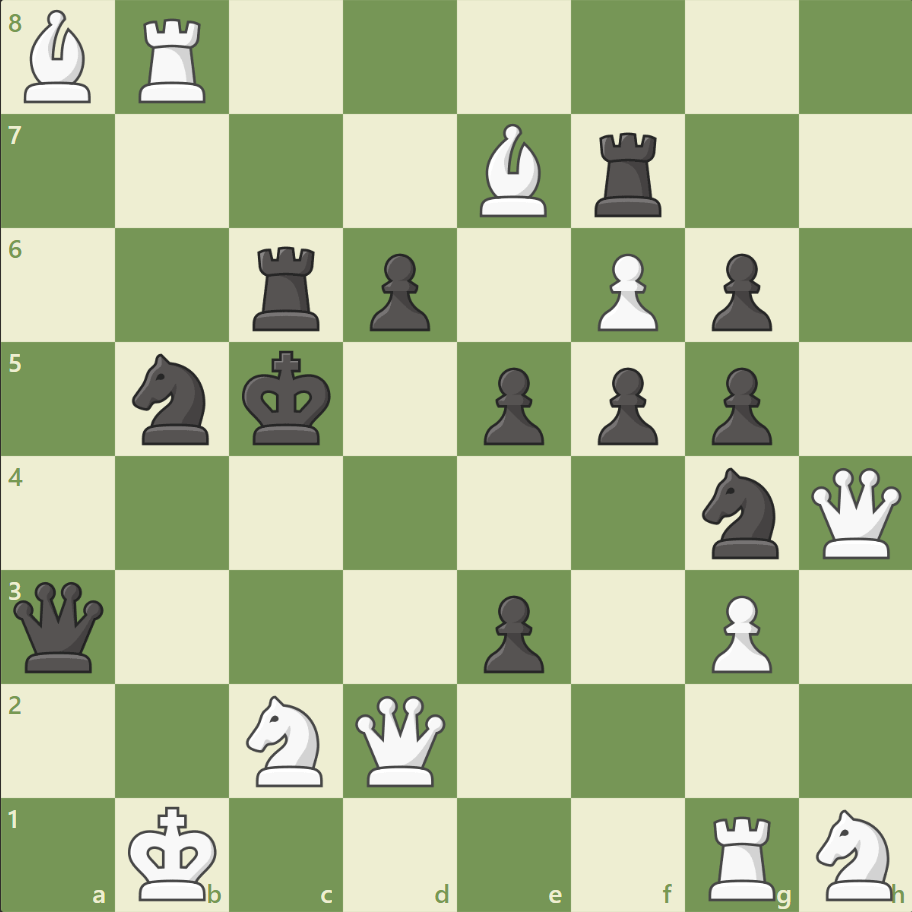B: (17, 6, 101, 109), (471, 120, 555, 222)
K: (124, 798, 224, 906)
N: (238, 688, 335, 791), (806, 802, 903, 904)
P: (701, 586, 776, 677), (588, 246, 662, 337)
Q: (805, 463, 904, 562), (351, 690, 450, 789)
R: (700, 806, 783, 904), (133, 12, 215, 109)
k: (238, 344, 338, 452)
n: (124, 348, 222, 450), (692, 461, 789, 564)
p: (701, 246, 776, 337), (474, 359, 549, 450), (701, 359, 776, 450), (474, 586, 549, 677), (361, 246, 435, 337), (588, 359, 662, 450)
q: (10, 576, 109, 676)
r: (587, 125, 670, 222), (246, 239, 329, 336)
